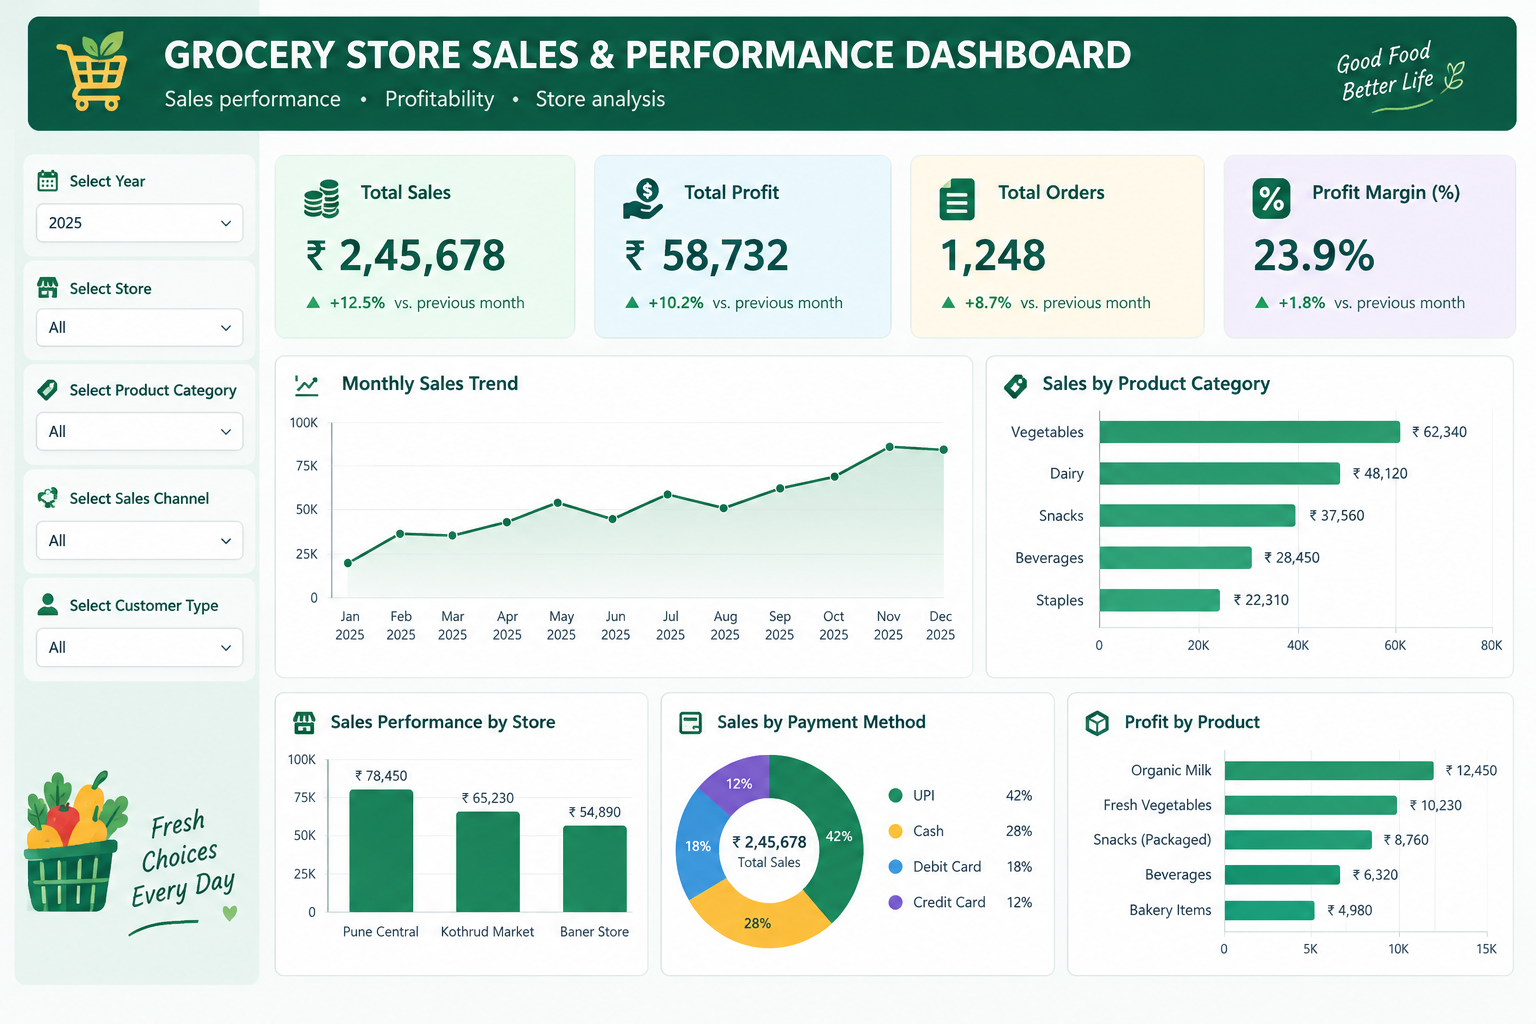

This screenshot's page, from the dashboard's own definition file:
{"tool":"powerbi","page":{"name":"Page 1","canvas":[1920,1080],"ordinal":0},"visuals":[{"type":"textbox","box":[0,0,1920.1,126.7],"z":0},{"type":"cardVisual","fields":{"Data":["SalesData.Total Sales"]},"box":[389.1,139.3,347.5,195.4],"z":1000},{"type":"cardVisual","fields":{"Data":["SalesData.Total Profit"]},"box":[772.7,139.3,347.5,195.4],"z":2000},{"type":"cardVisual","fields":{"Data":["SalesData.Total Orders"]},"box":[1158.2,139.3,347.5,195.4],"z":3000},{"type":"cardVisual","fields":{"Data":["SalesData.Profit Margin %"]},"box":[1554.5,139.3,347.5,195.4],"z":4000},{"type":"textbox","box":[407.2,282.3,235.3,39.8],"z":5000},{"type":"lineChart","title":"Monthly Sales Trend","fields":{"Category":["SalesData.OrderDate"],"Y":["Sum(SalesData.SalesAmount)"]},"box":[390.9,349.3,799.9,327.5],"z":6000},{"type":"clusteredBarChart","fields":{"Category":["SalesData.Category"],"Y":["Sum(SalesData.SalesAmount)"]},"box":[1216.1,349.3,685.9,327.5],"z":7000},{"type":"donutChart","title":"Sales by Payment Method","fields":{"Category":["SalesData.PaymentMethod"],"Y":["Sum(SalesData.SalesAmount)"]},"box":[389.1,704,490.4,352.9],"z":8000},{"type":"clusteredBarChart","title":"Profit by Product","fields":{"Category":["SalesData.Product"],"Y":["Sum(SalesData.Profit)"]},"box":[933.8,704,483.2,352.9],"z":9000},{"type":"slicer","fields":{"Values":["SalesData.Store"]},"box":[24,347.5,336.6,116],"z":10000},{"type":"slicer","fields":{"Values":["SalesData.Category"]},"box":[24,539.3,336.6,116],"z":11000},{"type":"slicer","fields":{"Values":["SalesData.Channel"]},"box":[24,722.1,336.6,116],"z":12000},{"type":"slicer","fields":{"Values":["SalesData.CustomerType"]},"box":[24,913.9,336.6,116],"z":13000},{"type":"slicer","fields":{"Values":["Calendar.Year"]},"box":[24,161.1,336.6,116],"z":14000},{"type":"clusteredColumnChart","title":"Sales Performance by Store","fields":{"Category":["SalesData.Store"],"Y":["Sum(SalesData.SalesAmount)"]},"box":[1476.7,704,425.3,352.9],"z":15000}]}

Visuals, with their boxes on the page's 1920x1080 design canvas (x1, y1, x2, y2). These are canvas units, not pixel positions in the 1536x1024 screenshot, which may show the page scaled, cropped or inside an application window:
textbox: box=[0, 0, 1920, 127]
cardVisual - SalesData.Total Sales: box=[389, 139, 737, 335]
cardVisual - SalesData.Total Profit: box=[773, 139, 1120, 335]
cardVisual - SalesData.Total Orders: box=[1158, 139, 1506, 335]
cardVisual - SalesData.Profit Margin %: box=[1554, 139, 1902, 335]
textbox: box=[407, 282, 642, 322]
"Monthly Sales Trend" lineChart: box=[391, 349, 1191, 677]
clusteredBarChart - SalesData.Category x Sum(SalesData.SalesAmount): box=[1216, 349, 1902, 677]
"Sales by Payment Method" donutChart: box=[389, 704, 880, 1057]
"Profit by Product" clusteredBarChart: box=[934, 704, 1417, 1057]
slicer - SalesData.Store: box=[24, 348, 361, 464]
slicer - SalesData.Category: box=[24, 539, 361, 655]
slicer - SalesData.Channel: box=[24, 722, 361, 838]
slicer - SalesData.CustomerType: box=[24, 914, 361, 1030]
slicer - Calendar.Year: box=[24, 161, 361, 277]
"Sales Performance by Store" clusteredColumnChart: box=[1477, 704, 1902, 1057]
